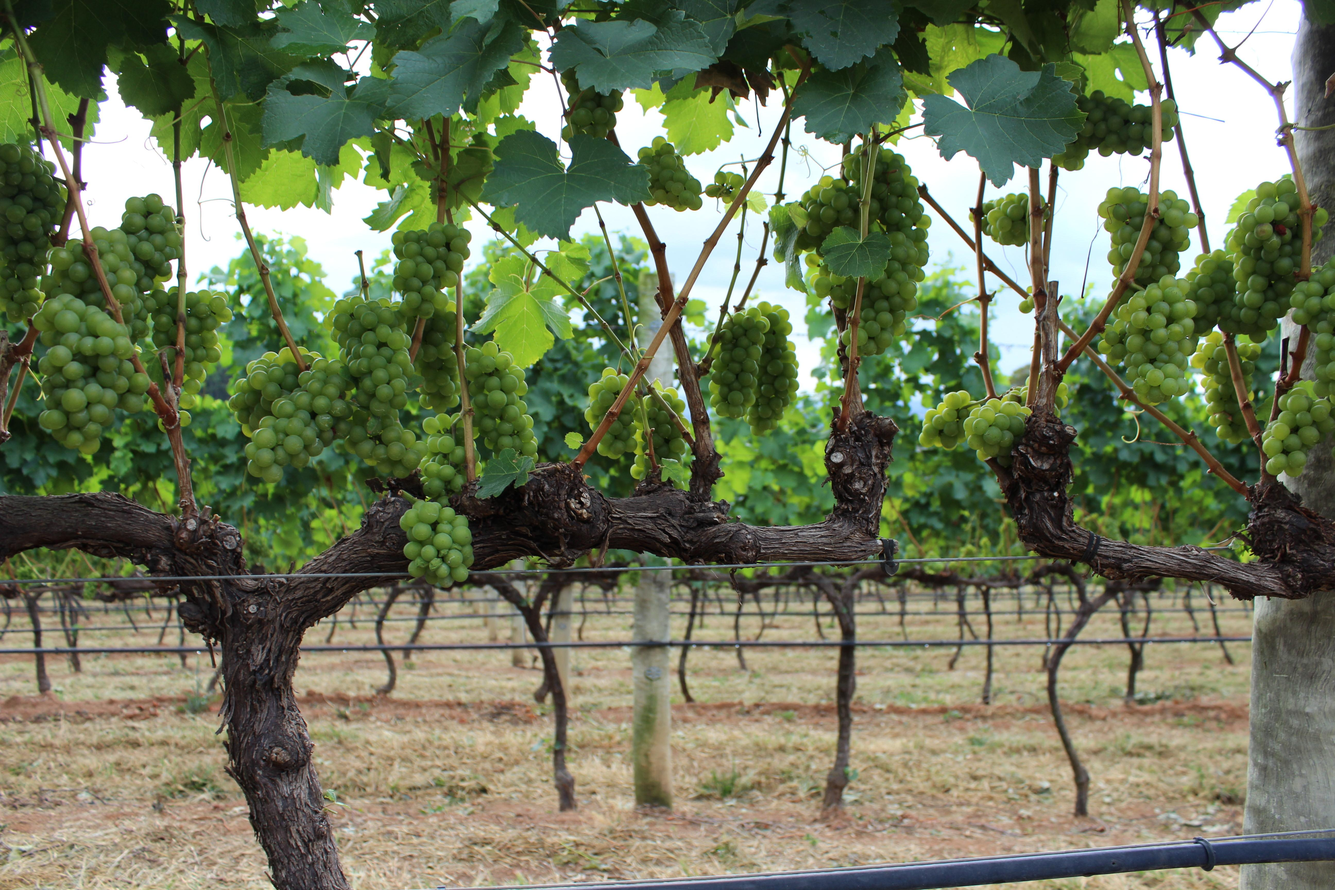leaf: (923, 54, 1085, 186), (483, 130, 650, 239), (28, 0, 171, 99), (550, 10, 717, 93), (389, 19, 526, 118), (263, 66, 383, 165), (171, 15, 301, 101), (472, 256, 572, 367), (793, 47, 906, 144), (747, 0, 899, 70), (117, 43, 196, 117), (661, 74, 733, 155), (271, 0, 374, 56), (821, 226, 891, 278), (673, 0, 738, 56), (769, 204, 807, 293), (475, 448, 535, 498), (194, 0, 256, 27), (449, 0, 499, 22), (563, 431, 584, 451), (363, 78, 375, 84), (339, 77, 341, 80)
